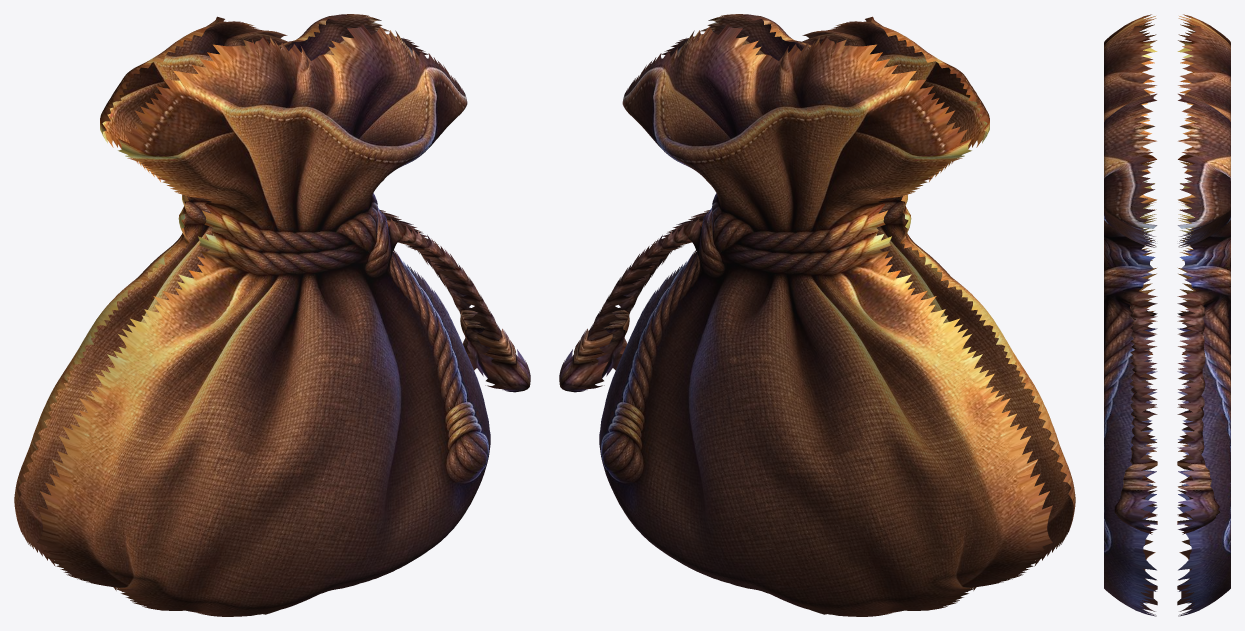
Rendered from v4-item-any-gear.glb.
3 renders of one model, left to right at view 1: azimuth 30°, elevation 25°; view 2: azimuth 150°, elevation 25°; view 3: azimuth 270°, elevation 25°, orthographic. The views are drawn at different scales.
Visible parts, largest first — view 1: v4-item-any-gear; view 2: v4-item-any-gear; view 3: v4-item-any-gear.
Part boxes in pixels (x1=…): v4-item-any-gear: x1=14, y1=14, x2=530, y2=616; v4-item-any-gear: x1=559, y1=14, x2=1075, y2=616; v4-item-any-gear: x1=1104, y1=14, x2=1230, y2=616.
Bounding box in the file's own units: 0.881 × 0.9929 × 0.2149.
Materials: 1 (1 with a texture image).
